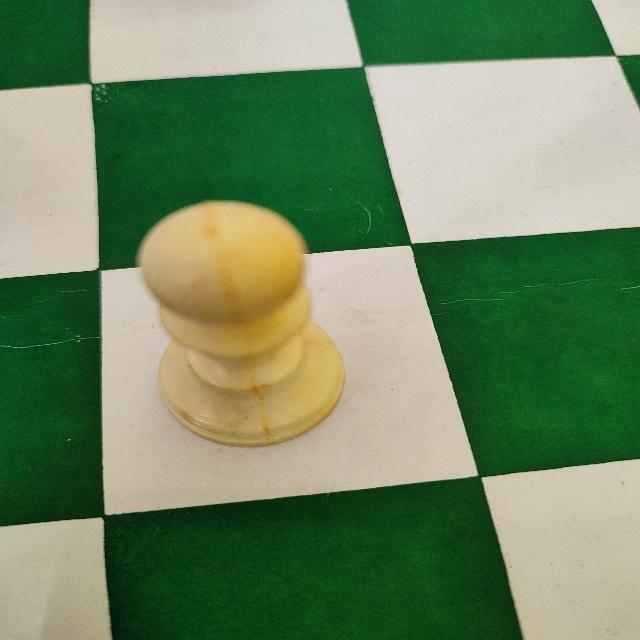Pawn: (132, 194, 351, 451)
